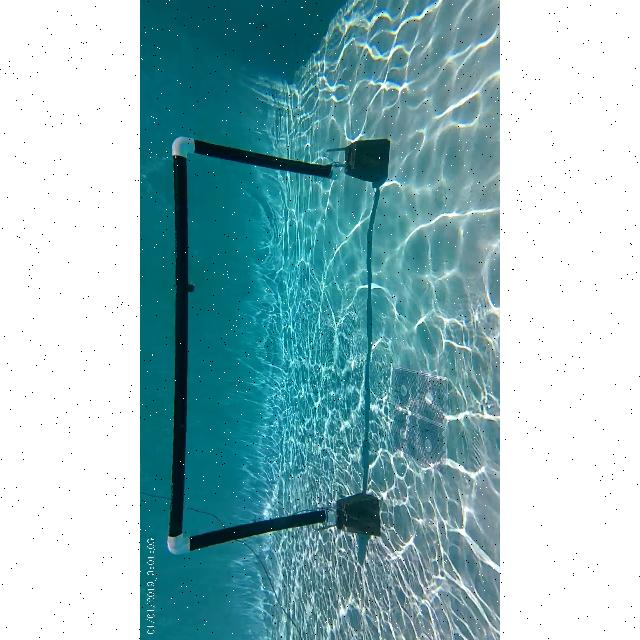prequal gate: (146, 137, 337, 558)
prequal gate leg l: (164, 506, 388, 544)
prequal gate leg r: (170, 130, 396, 190)
